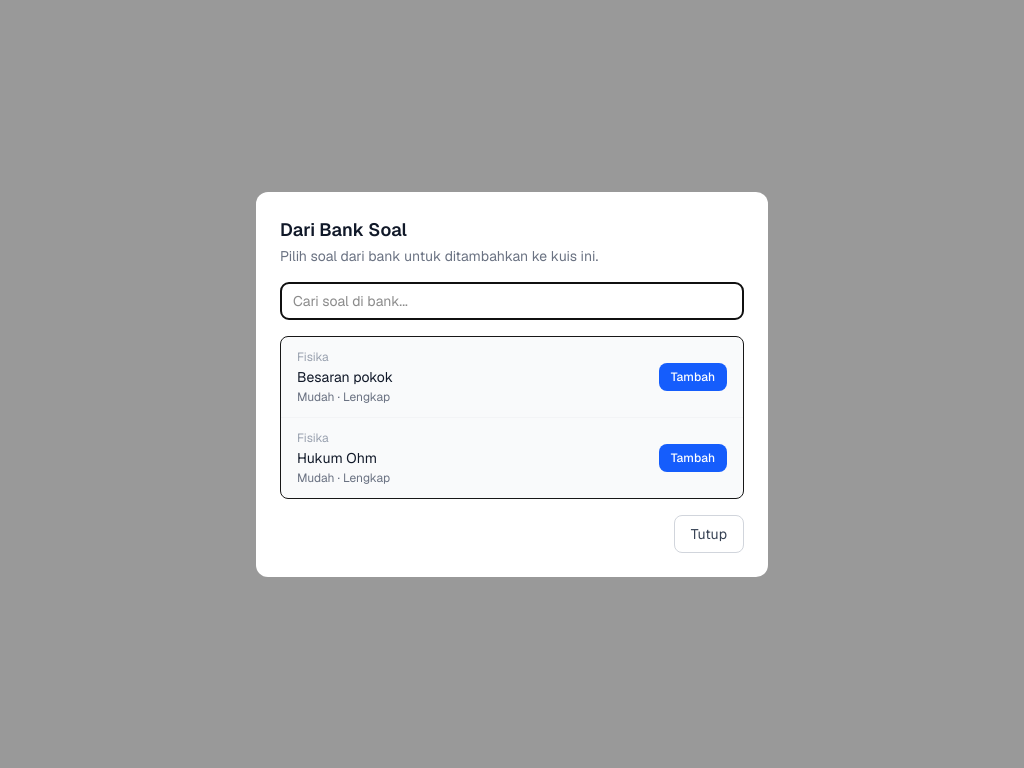
BankPickerDialog › shows the API error message when attach fails
Click the button with test id "bank-picker-add-11" at (693, 376), box x1=659 y1=362 x2=727 y2=390
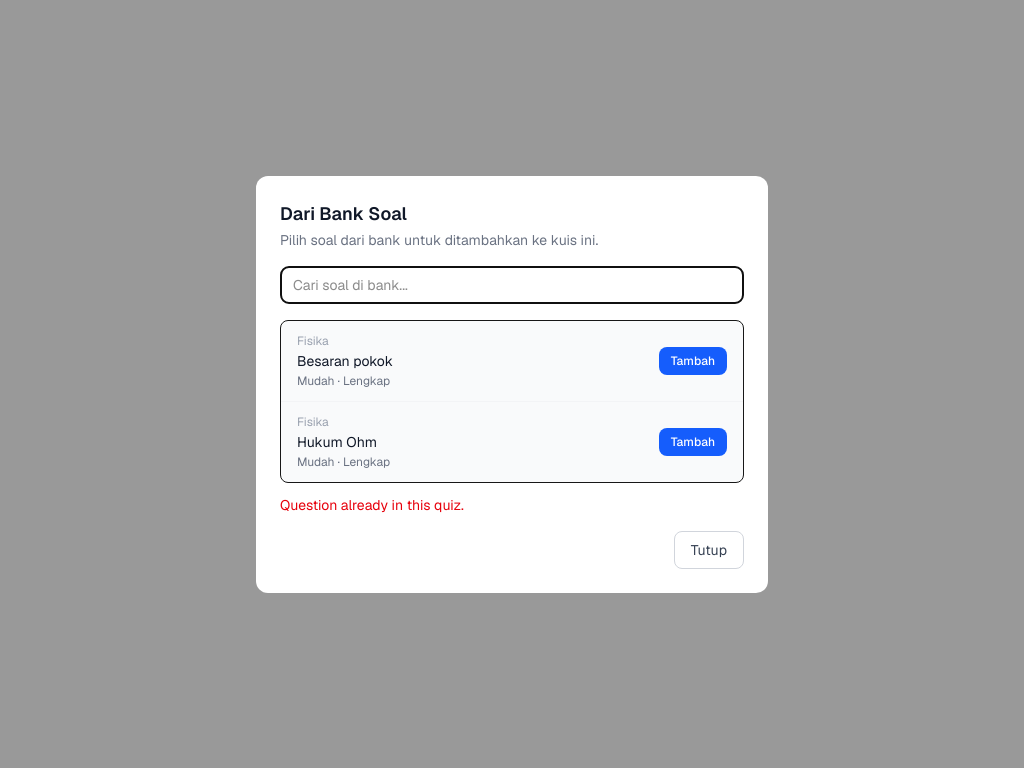
Expected: the text with test id "bank-picker-error" reads "Question already in this quiz.", x1=280 y1=496 x2=464 y2=514
